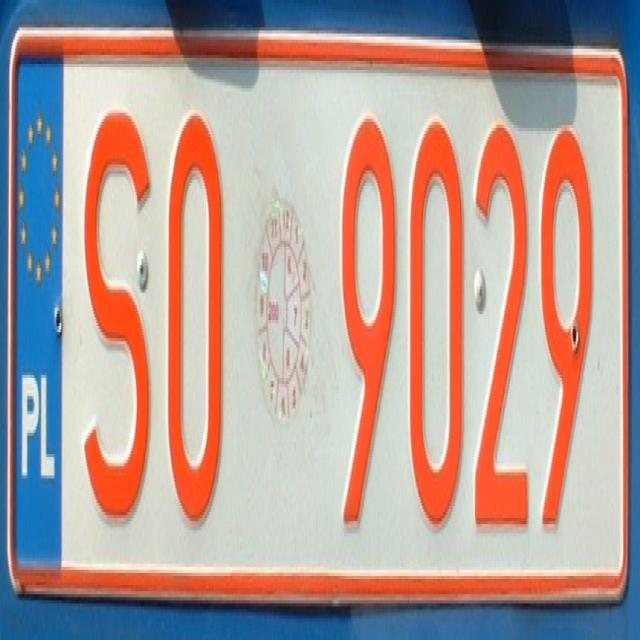pl_license_plate: (14, 46, 624, 579)
